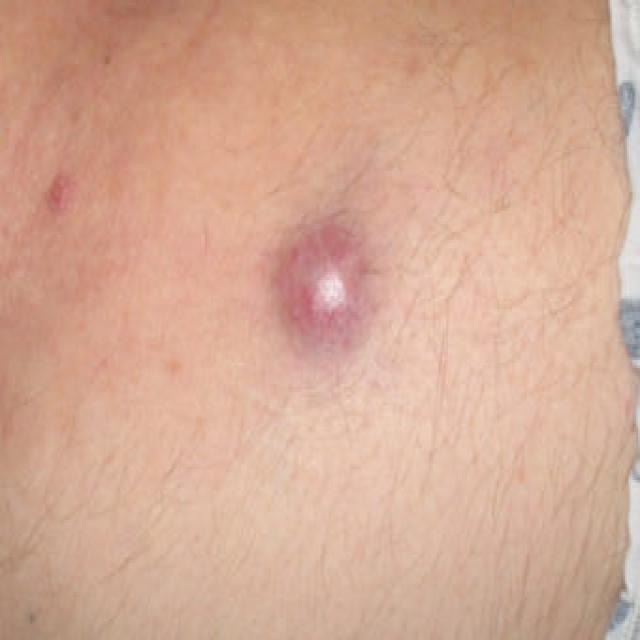Nao cancer: (275, 213, 380, 361)
